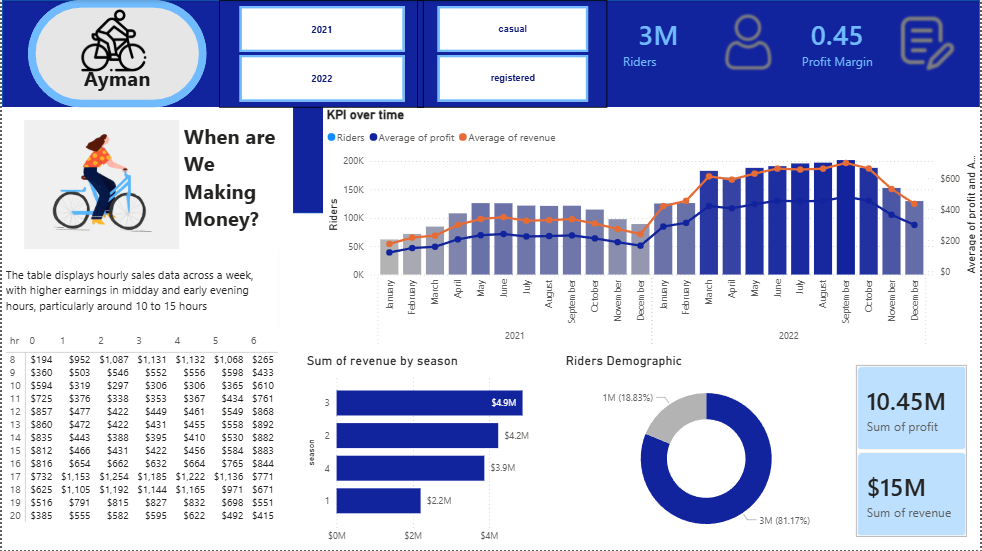

Layout of this report page (visuals, bound fields, positions):
{"tool":"powerbi","page":{"name":"Page 1","canvas":[1280,720],"ordinal":0},"visuals":[{"type":"shape","box":[0,0,1280,279.4],"z":0},{"type":"cardVisual","fields":{"Data":["Sum(Query1.revenue)"]},"box":[0,140.5,381,579],"z":1000},{"type":"cardVisual","fields":{"Data":["Sum(Query1.revenue)"]},"box":[0,140.5,296.3,203.2],"z":2000},{"type":"cardVisual","fields":{"Data":["Sum(Query1.revenue)"]},"box":[492.7,404.7,787.3,314.9],"z":3000},{"type":"cardVisual","fields":{"Data":["Sum(Query1.revenue)"]},"box":[419.9,140.5,860.1,264.1],"z":4000},{"type":"pivotTable","fields":{"Rows":["Query1.hr"],"Values":["Avg(Query1.revenue)"],"Columns":["Query1.weekday"]},"box":[0,430.1,381,289.5],"z":5000},{"type":"textbox","box":[233.7,154.1,147.3,171],"z":6000},{"type":"textbox","box":[0,343.7,336.9,86.3],"z":7000},{"type":"lineClusteredColumnComboChart","title":"KPI over time","fields":{"Y":["Sum(Query1.riders)"],"Category":["Query1.dteday.Variation.Date Hierarchy.Year","Query1.dteday.Variation.Date Hierarchy.Month","Query1.dteday.Variation.Date Hierarchy.Day"],"Y2":["Avg(Query1.profit)","Avg(Query1.revenue)"]},"box":[419.9,140.5,860.1,321.7],"z":8000},{"type":"clusteredBarChart","fields":{"Category":["Query1.season"],"Y":["Sum(Query1.revenue)"]},"box":[394.5,462.2,338.6,257.4],"z":9000},{"type":"donutChart","title":"Riders Demographic","fields":{"Y":["Sum(Query1.riders)"],"Category":["Query1.rider_type"]},"box":[733.1,462.2,377.6,257.4],"z":10000},{"type":"cardVisual","title":"KPI over time","fields":{"Data":["Sum(Query1.profit)","Sum(Query1.revenue)"]},"box":[1100.5,460.5,179.5,259],"z":11000},{"type":"cardVisual","fields":{"Data":["Sum(Query1.riders)","Query1.Profit Margin"]},"box":[792.4,0,487.6,110.1],"z":12000},{"type":"shape","box":[33.9,0,233.7,140.5],"z":13000},{"type":"image","box":[59.3,10.2,174.4,84.7],"z":14000},{"type":"slicer","fields":{"Values":["Query1.rider_type"]},"box":[543.5,0,248.9,140.5],"z":15000},{"type":"slicer","fields":{"Values":["Query1.Year"]},"box":[284.4,0,267.5,140.5],"z":16000}]}

Visuals, with their boxes in screenshot pixels (x1, y1, x2, y2), scaled from the page's 1280x720 canvas onto the 982x551 screenshot:
shape: rect(0, 0, 981, 214)
cardVisual - Sum(Query1.revenue): rect(0, 108, 292, 550)
cardVisual - Sum(Query1.revenue): rect(0, 108, 227, 263)
cardVisual - Sum(Query1.revenue): rect(378, 310, 981, 550)
cardVisual - Sum(Query1.revenue): rect(322, 108, 981, 310)
pivotTable - Query1.hr x Avg(Query1.revenue): rect(0, 329, 292, 550)
textbox: rect(179, 118, 292, 249)
textbox: rect(0, 263, 258, 329)
"KPI over time" lineClusteredColumnComboChart: rect(322, 108, 981, 354)
clusteredBarChart - Query1.season x Sum(Query1.revenue): rect(303, 354, 562, 550)
"Riders Demographic" donutChart: rect(562, 354, 852, 550)
"KPI over time" cardVisual: rect(844, 352, 981, 550)
cardVisual - Sum(Query1.riders) x Query1.Profit Margin: rect(608, 0, 981, 84)
shape: rect(26, 0, 205, 108)
image: rect(45, 8, 179, 73)
slicer - Query1.rider_type: rect(417, 0, 608, 108)
slicer - Query1.Year: rect(218, 0, 423, 108)
